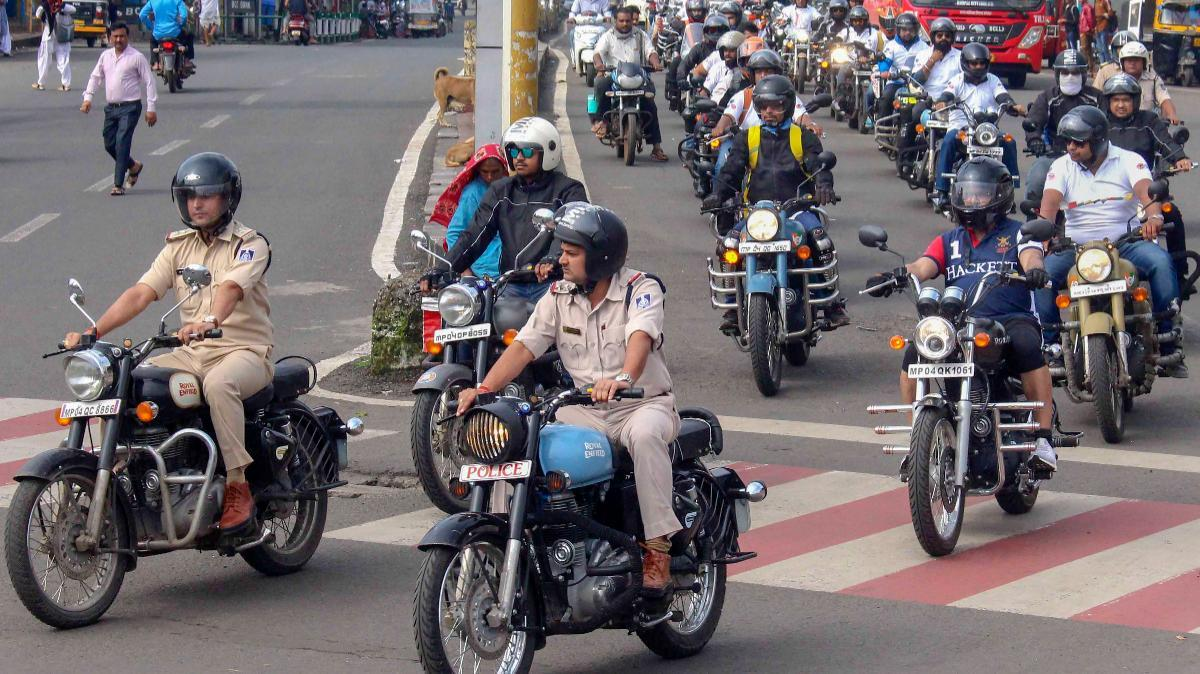helmet: (155, 149, 261, 246), (550, 203, 634, 295), (944, 154, 1019, 237), (498, 111, 568, 180), (1048, 107, 1121, 168), (737, 75, 806, 130), (744, 74, 806, 131), (1101, 70, 1154, 121), (1046, 45, 1091, 98), (1121, 40, 1156, 80), (890, 13, 925, 51), (714, 32, 738, 76), (924, 16, 953, 51), (965, 46, 992, 83), (846, 8, 871, 39), (679, 0, 710, 21), (821, 1, 849, 24), (722, 0, 740, 29)
nohelmet: (611, 10, 634, 35)
